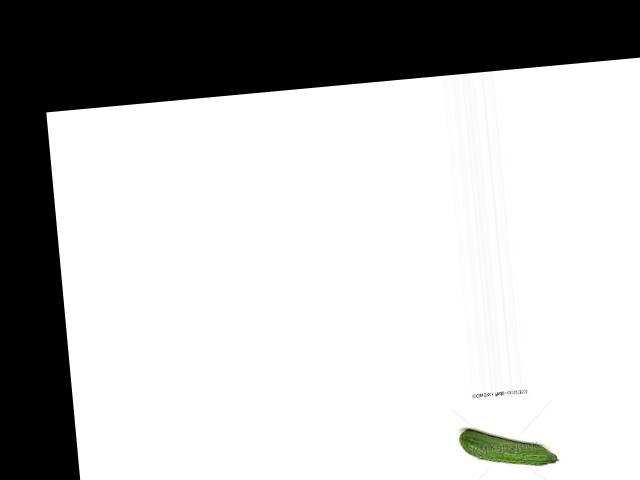cucumber: (459, 421, 559, 472)
